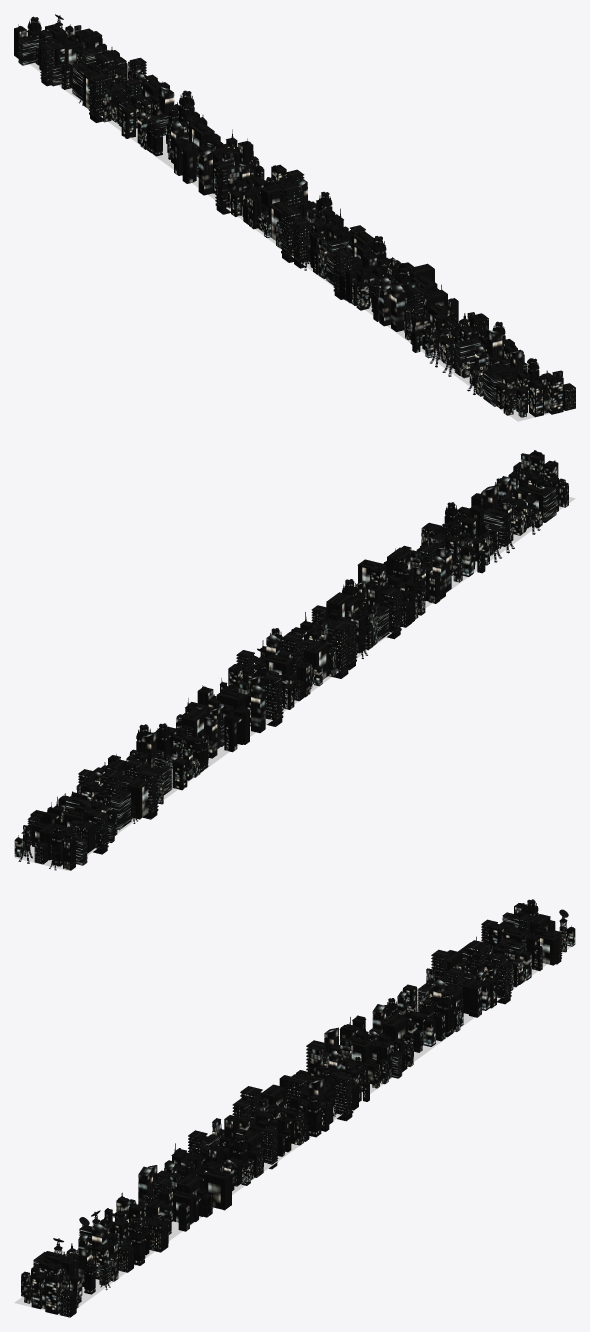
File: Background.fbx
3 renders of one model, top to bottom at view 1: azimuth 30°, elevation 25°; view 2: azimuth 150°, elevation 25°; view 3: azimuth 330°, elevation 25°, orthographic.
Parts seen in each view (by area): view 1: Plane, Plane.004, Plane.014, Plane.018, Plane.016, Highrise_16.006, Highrise_16.016, Highrise_10.004, Highrise_12.003, Plane.022, Highrise_12.008, Highrise_10.002 (+1 smaller); view 2: Plane, Plane.004, Plane.018, Plane.022, Highrise_14.022, Highrise_16.006, highrise_13.020, Highrise_14.024, Highrise_12.007, Plane.014, Plane.017, Plane.006 (+1 smaller); view 3: Plane, Highrise_14.020, Plane.013, Plane.020, Highrise_10.004, Highrise_2.012, Plane.015, Highrise_14.019, Plane.002, Highrise_18.018, Highrise_14.009.
Boxes of the visible parts, x1,y1,x2,y2 form: Plane: [29, 62, 549, 421]; Plane.004: [280, 205, 302, 262]; Plane.014: [88, 72, 108, 122]; Plane.018: [215, 161, 233, 214]; Plane.016: [292, 218, 312, 268]; Highrise_16.006: [198, 147, 212, 195]; Highrise_16.016: [391, 284, 405, 331]; Highrise_10.004: [546, 374, 563, 414]; Highrise_12.003: [454, 337, 481, 375]; Plane.022: [333, 249, 352, 299]; Highrise_12.008: [18, 36, 39, 65]; Highrise_10.002: [529, 380, 543, 417]; Plane: [14, 497, 575, 870]; Plane.004: [327, 621, 349, 678]; Plane.018: [262, 673, 283, 726]; Plane.022: [382, 588, 401, 639]; Highrise_14.022: [127, 776, 148, 819]; Highrise_16.006: [251, 685, 265, 732]; highrise_13.020: [224, 697, 247, 752]; Highrise_14.024: [304, 640, 328, 679]; Highrise_12.007: [109, 790, 131, 830]; Plane.014: [138, 768, 158, 819]; Plane.017: [92, 811, 108, 854]; Plane.006: [281, 632, 303, 678]; Plane: [14, 943, 575, 1313]; Highrise_14.020: [204, 1170, 231, 1210]; Plane.013: [335, 1073, 353, 1121]; Plane.020: [494, 959, 511, 1004]; Highrise_10.004: [45, 1274, 62, 1314]; Highrise_2.012: [148, 1218, 168, 1252]; Plane.015: [466, 940, 487, 974]; Highrise_14.019: [537, 932, 559, 965]; Plane.002: [262, 1126, 278, 1169]; Highrise_18.018: [307, 1095, 321, 1137]; Highrise_14.009: [382, 1014, 408, 1041].
Size of the model in its own units: 426 by 298 by 5375.
